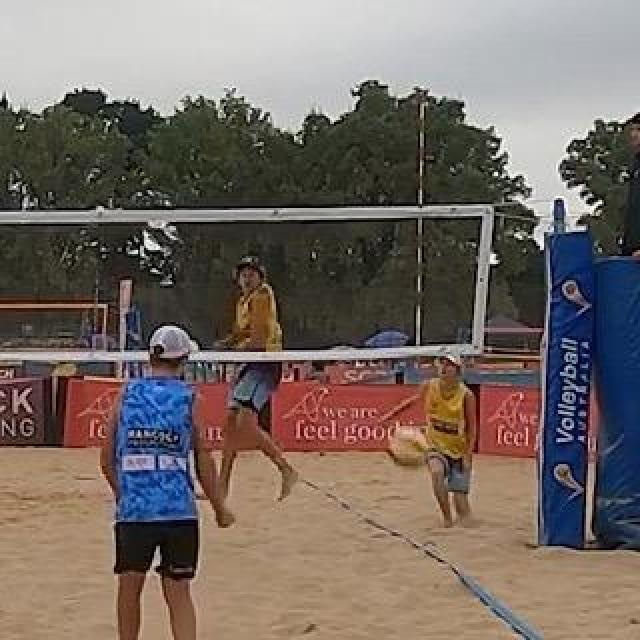volleyball: (389, 426, 429, 468)
